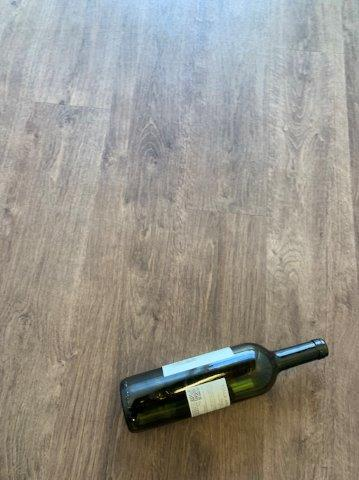botolkaca: (119, 340, 330, 433)
